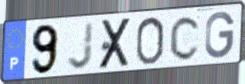9: (30, 23, 61, 76)
C: (168, 14, 203, 63)
G: (203, 10, 236, 61)
J: (65, 21, 95, 72)
O: (134, 15, 166, 67)
X: (97, 16, 134, 72)
